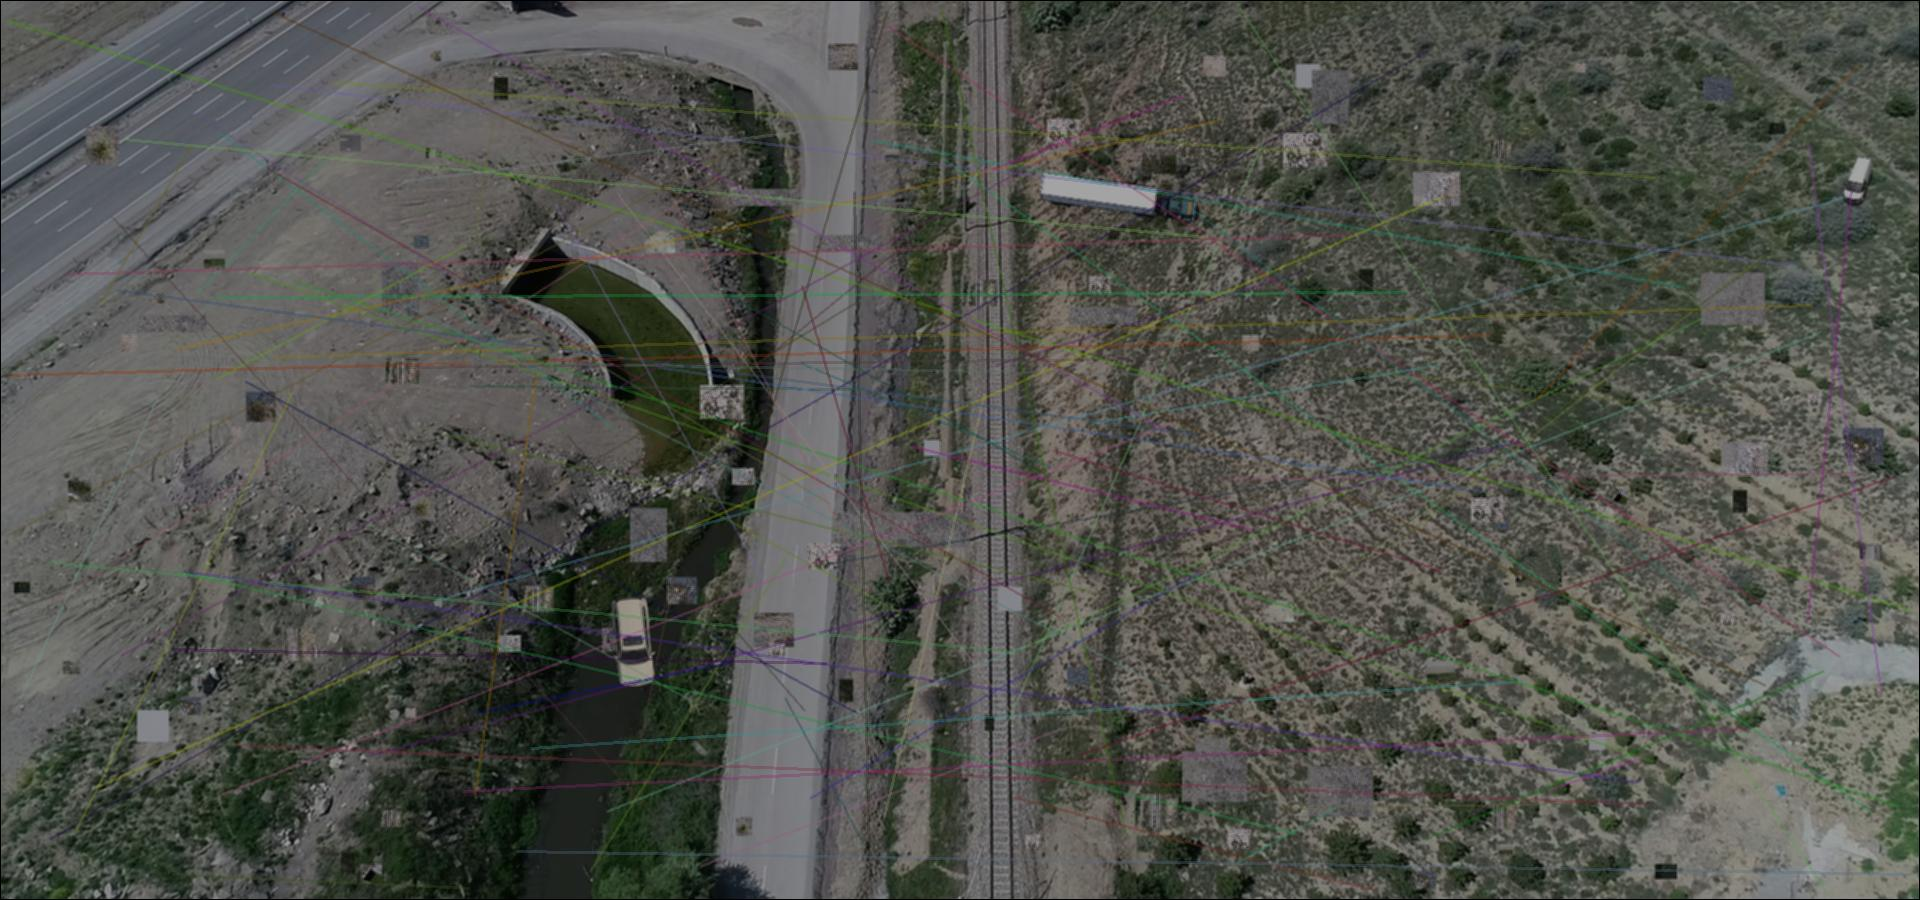arac: (1037, 169, 1200, 225), (605, 593, 658, 689), (1843, 156, 1873, 206)
